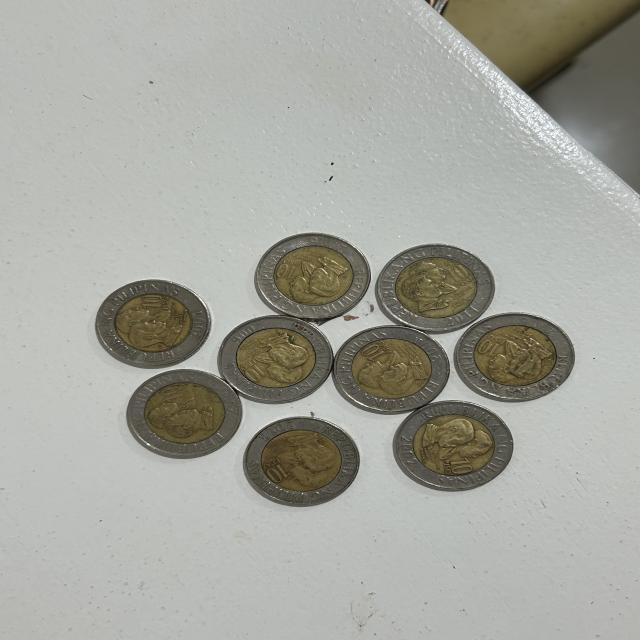10_Old_Front: (144, 386, 224, 444), (443, 260, 479, 292), (258, 458, 304, 482), (433, 455, 475, 479), (271, 254, 301, 283), (362, 342, 397, 363), (475, 334, 502, 360), (138, 290, 168, 312), (238, 358, 265, 382)
